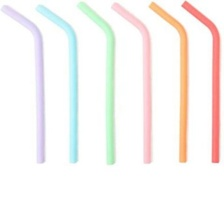drinking_straw: (145, 0, 198, 165), (0, 0, 51, 166), (72, 0, 119, 167)
